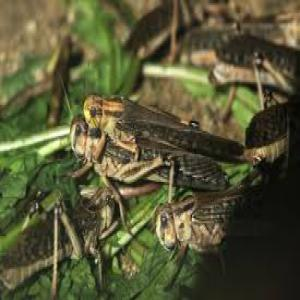locust: (82, 82, 240, 169), (157, 183, 300, 250)
